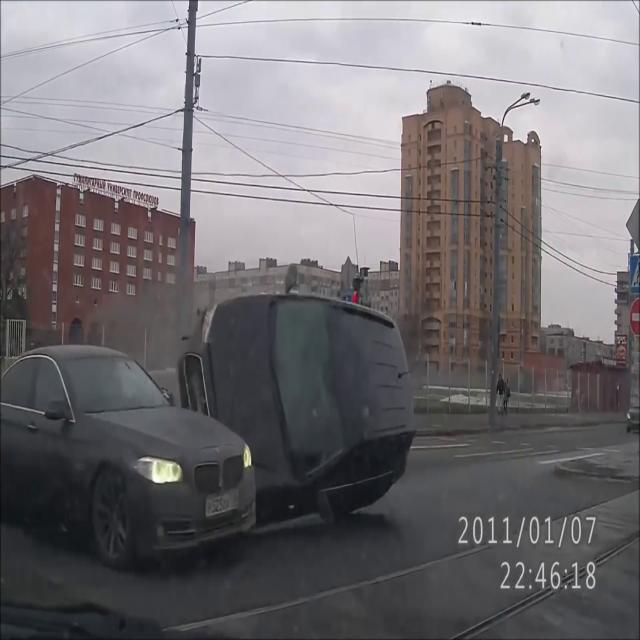accident: (39, 283, 395, 566)
